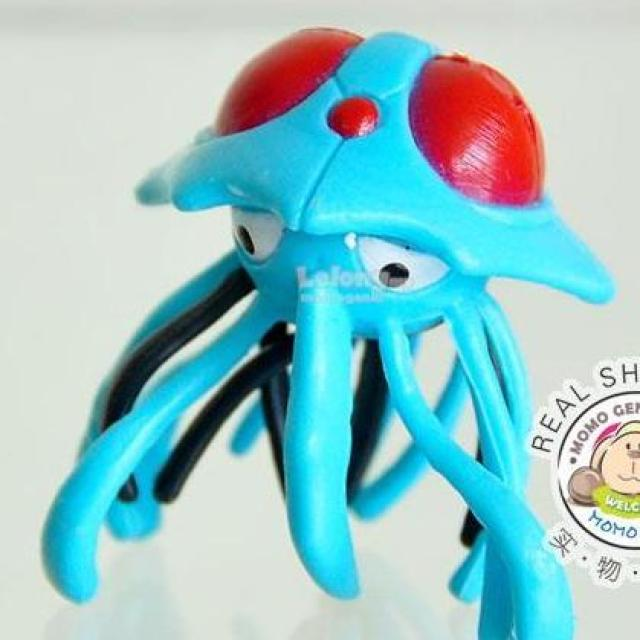Tentacruel: (99, 23, 608, 459)
